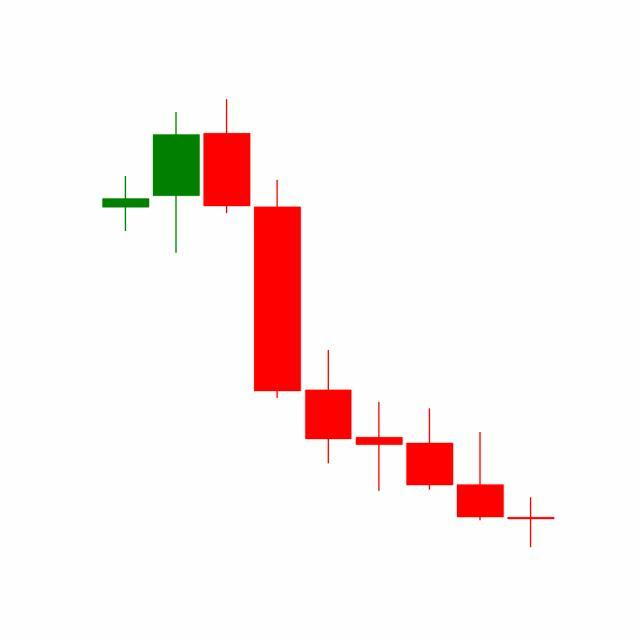Hikkake Pattern: (252, 177, 506, 526)
